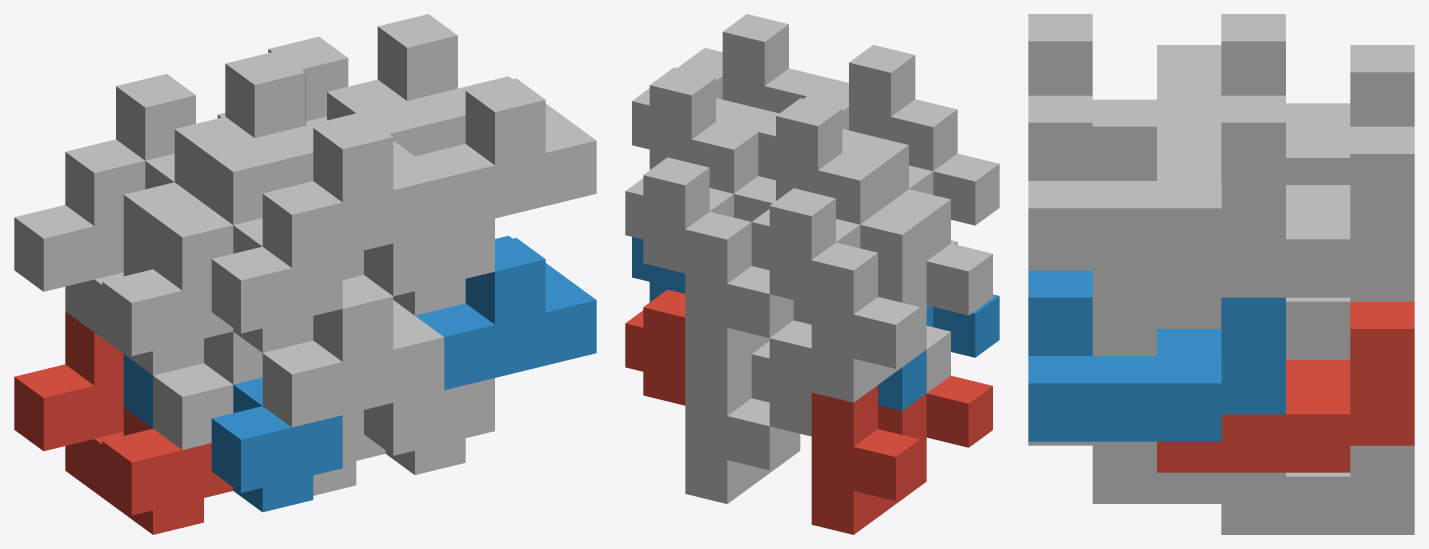
File: tiling.obj
3 renders of one model, left to right at view 1: azimuth 30°, elevation 25°; view 2: azimuth 150°, elevation 25°; view 3: azimuth 270°, elevation 25°, orthographic. The views are drawn at different scales.
Parts seen in each view (by area): view 1: copy_2_domain_4, copy_2_domain_8, copy_1_domain_3, copy_1_domain_1, copy_2_domain_2, copy_1_domain_4, copy_2_domain_3, copy_2_domain_6, copy_1_domain_2, copy_1_domain_8, copy_1_domain_6, copy_2_domain_1 (+2 smaller); view 2: copy_1_domain_3, copy_1_domain_1, copy_2_domain_4, copy_2_domain_8, copy_1_domain_7, copy_2_domain_3, copy_1_domain_4, copy_1_domain_5, copy_2_domain_7, copy_2_domain_1, copy_2_domain_5, copy_1_domain_8 (+2 smaller); view 3: copy_2_domain_8, copy_2_domain_6, copy_2_domain_7, copy_2_domain_5, copy_2_domain_4, copy_2_domain_3, copy_1_domain_5, copy_1_domain_6, copy_1_domain_8, copy_1_domain_7, copy_2_domain_2.
Boxes of the visible parts, box(x1,y1,x2,y2) form: copy_2_domain_4: box(225, 51, 444, 267); copy_2_domain_8: box(377, 14, 596, 230); copy_1_domain_3: box(14, 139, 233, 375); copy_1_domain_1: box(14, 311, 233, 534); copy_2_domain_2: box(262, 275, 444, 427); copy_1_domain_4: box(123, 116, 342, 352); copy_2_domain_3: box(116, 74, 283, 290); copy_2_domain_6: box(415, 235, 596, 390); copy_1_domain_2: box(123, 354, 342, 512); copy_1_domain_8: box(327, 79, 494, 315); copy_1_domain_6: box(364, 378, 494, 474); copy_2_domain_1: box(153, 331, 262, 449); copy_1_domain_3: box(811, 242, 992, 402); copy_1_domain_1: box(811, 375, 992, 534); copy_2_domain_4: box(758, 45, 957, 200); copy_2_domain_8: box(632, 14, 830, 169); copy_1_domain_7: box(685, 211, 793, 371); copy_2_domain_3: box(751, 135, 950, 304); copy_1_domain_4: box(818, 152, 999, 278); copy_1_domain_5: box(685, 354, 800, 503); copy_2_domain_7: box(625, 104, 778, 273); copy_2_domain_1: box(751, 320, 950, 436); copy_2_domain_5: box(625, 289, 685, 405); copy_1_domain_8: box(691, 121, 775, 221); copy_2_domain_8: box(1028, 95, 1285, 266); copy_2_domain_6: box(1028, 270, 1285, 441); copy_2_domain_7: box(1157, 126, 1414, 297); copy_2_domain_5: box(1157, 301, 1414, 472); copy_2_domain_4: box(1028, 14, 1285, 180); copy_2_domain_3: box(1157, 45, 1414, 184); copy_1_domain_5: box(1221, 445, 1414, 534); copy_1_domain_6: box(1028, 441, 1285, 503); copy_1_domain_8: box(1028, 266, 1221, 328); copy_1_domain_7: box(1286, 270, 1414, 359); copy_2_domain_2: box(1092, 329, 1156, 355).
Bounding box in the file's own units: 8 × 8 × 6.
